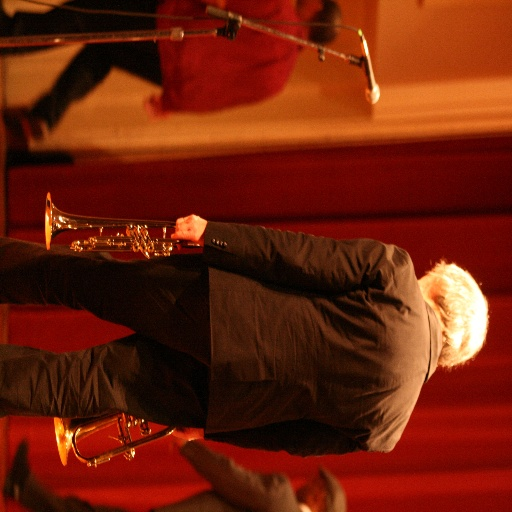hand: (162, 205, 211, 254), (141, 90, 167, 121), (168, 424, 203, 442)
